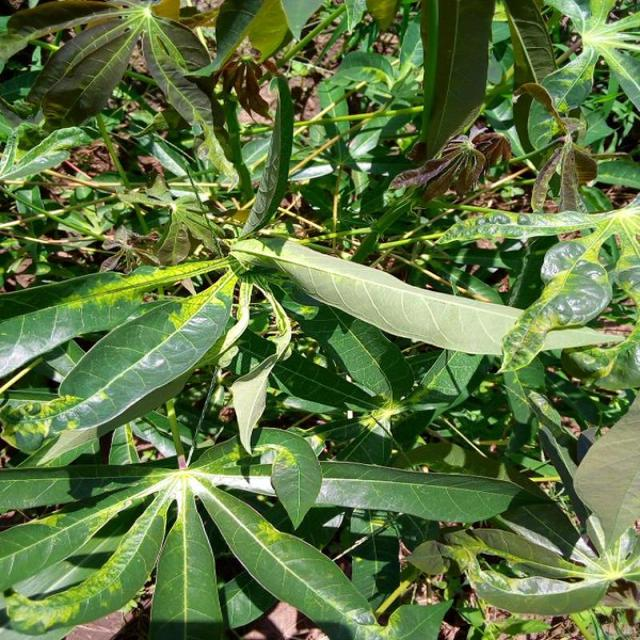cassava leaf: (0, 1, 638, 637), (230, 232, 615, 374), (47, 266, 237, 440)
